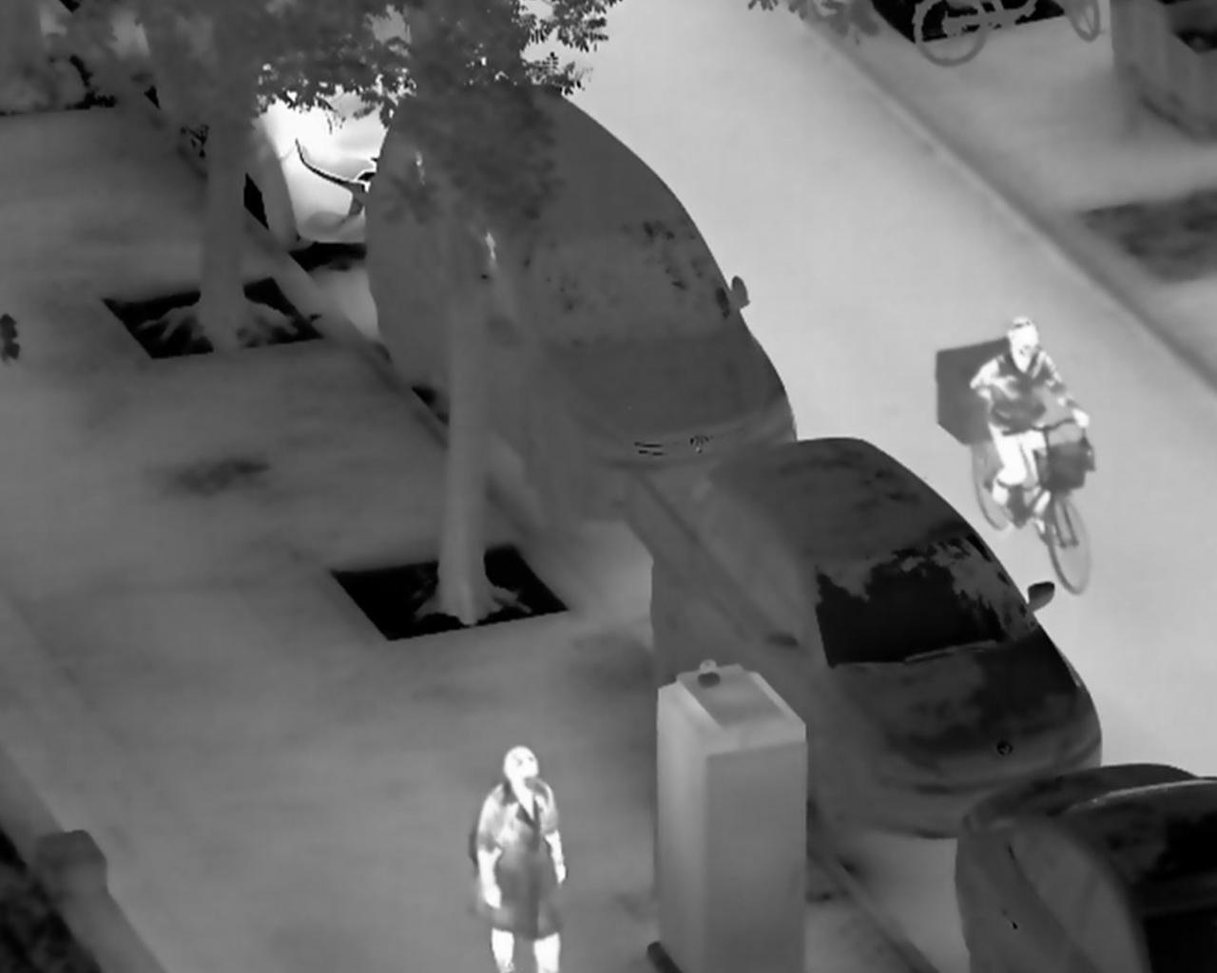person: (969, 315, 1094, 511), (471, 743, 568, 973)
